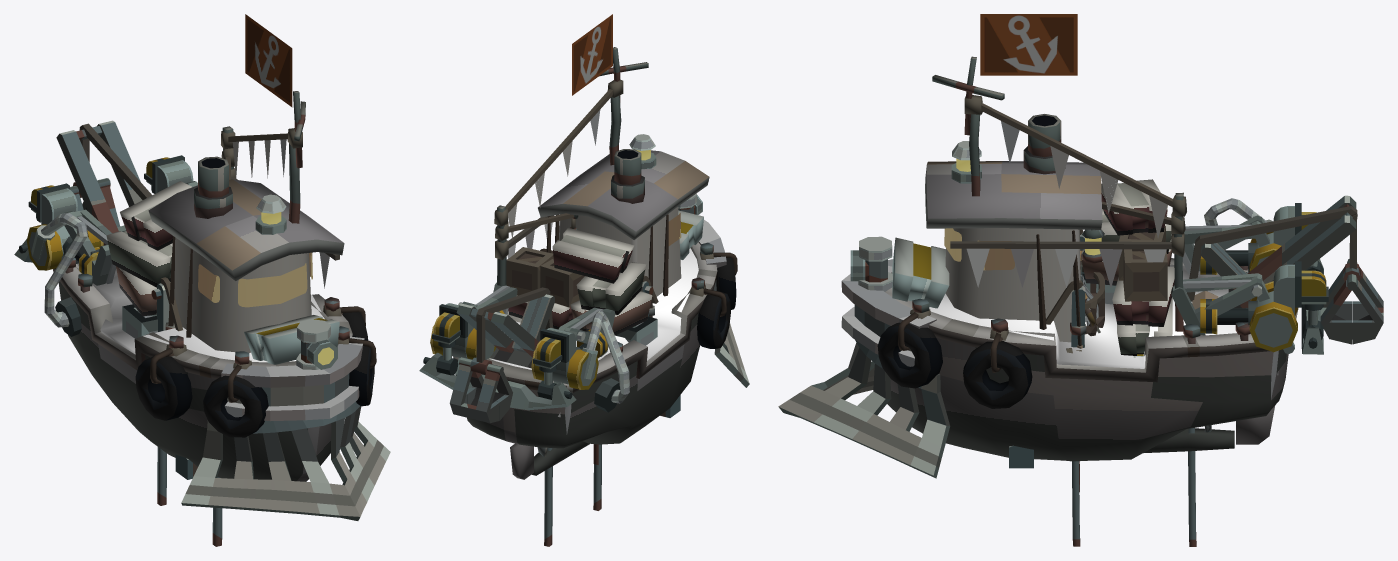
The model's file is PlayerBoat4.fbx.
3 views of the same model, side by side, from view 1: azimuth 30°, elevation 25°; view 2: azimuth 150°, elevation 25°; view 3: azimuth 270°, elevation 25° (orthographic). The views are drawn at different scales.
Visible parts, largest first — view 1: Boat1.001, IcebreakerModelPart1, IcebreakerModelPart2, Dredge, IronhavenTrawl_Body, LanternModel.001, LanternModel.002, Flag, IronhavenTrawl_BodyRotator, FoamMask, Container8, Container11 (+13 smaller); view 2: Boat1.001, Dredge, IronhavenTrawl_Body, DredgeBucketMesh, Container10, IronhavenTrawl_Arms, FoamMask, Flag, Container8, IronhavenTrawl_VacuumHead, LanternModel.001, IronhavenTrawl_BodyRotator (+18 smaller); view 3: Boat1.001, IcebreakerModelPart1, Dredge, Flag, FoamMask, SalvageFrame (1), DredgeBucketMesh, LongBunting, LanternModel.004, IcebreakerModelPart2, LanternModel.003, IronhavenTrawl_Body (+15 smaller).
Part boxes in pixels (x1=…): Boat1.001: x1=53, y1=91, x2=352, y2=481; IcebreakerModelPart1: x1=181, y1=401, x2=390, y2=520; IcebreakerModelPart2: x1=221, y1=336, x2=364, y2=421; Dredge: x1=56, y1=120, x2=151, y2=245; IronhavenTrawl_Body: x1=26, y1=213, x2=103, y2=336; LanternModel.001: x1=135, y1=348, x2=192, y2=420; LanternModel.002: x1=203, y1=364, x2=268, y2=437; Flag: x1=245, y1=14, x2=292, y2=107; IronhavenTrawl_BodyRotator: x1=37, y1=155, x2=193, y2=263; FoamMask: x1=76, y1=263, x2=324, y2=362; Container8: x1=106, y1=231, x2=172, y2=287; Container11: x1=244, y1=315, x2=339, y2=364; Boat1.001: x1=453, y1=47, x2=717, y2=475; Dredge: x1=456, y1=287, x2=554, y2=368; IronhavenTrawl_Body: x1=430, y1=310, x2=629, y2=412; DredgeBucketMesh: x1=449, y1=315, x2=512, y2=423; Container10: x1=552, y1=227, x2=634, y2=283; IronhavenTrawl_Arms: x1=423, y1=312, x2=572, y2=399; FoamMask: x1=489, y1=248, x2=698, y2=417; Flag: x1=572, y1=14, x2=612, y2=95; Container8: x1=576, y1=262, x2=646, y2=314; IronhavenTrawl_VacuumHead: x1=419, y1=352, x2=576, y2=410; LanternModel.001: x1=697, y1=288, x2=730, y2=348; IronhavenTrawl_BodyRotator: x1=439, y1=303, x2=580, y2=384; Boat1.001: x1=885, y1=56, x2=1298, y2=461; IcebreakerModelPart1: x1=778, y1=340, x2=950, y2=478; Dredge: x1=1187, y1=195, x2=1357, y2=309; Flag: x1=980, y1=14, x2=1077, y2=75; FoamMask: x1=929, y1=265, x2=1278, y2=375; SalvageFrame (1): x1=1171, y1=215, x2=1294, y2=353; DredgeBucketMesh: x1=1320, y1=214, x2=1383, y2=344; LongBunting: x1=950, y1=241, x2=1171, y2=287; LanternModel.004: x1=963, y1=332, x2=1032, y2=408; IcebreakerModelPart2: x1=841, y1=259, x2=936, y2=366; LanternModel.003: x1=877, y1=312, x2=942, y2=388; IronhavenTrawl_Body: x1=1204, y1=198, x2=1297, y2=352.
Bounding box in the file's own units: 152 × 353 × 355.
Materials: 11 (9 with a texture image).
